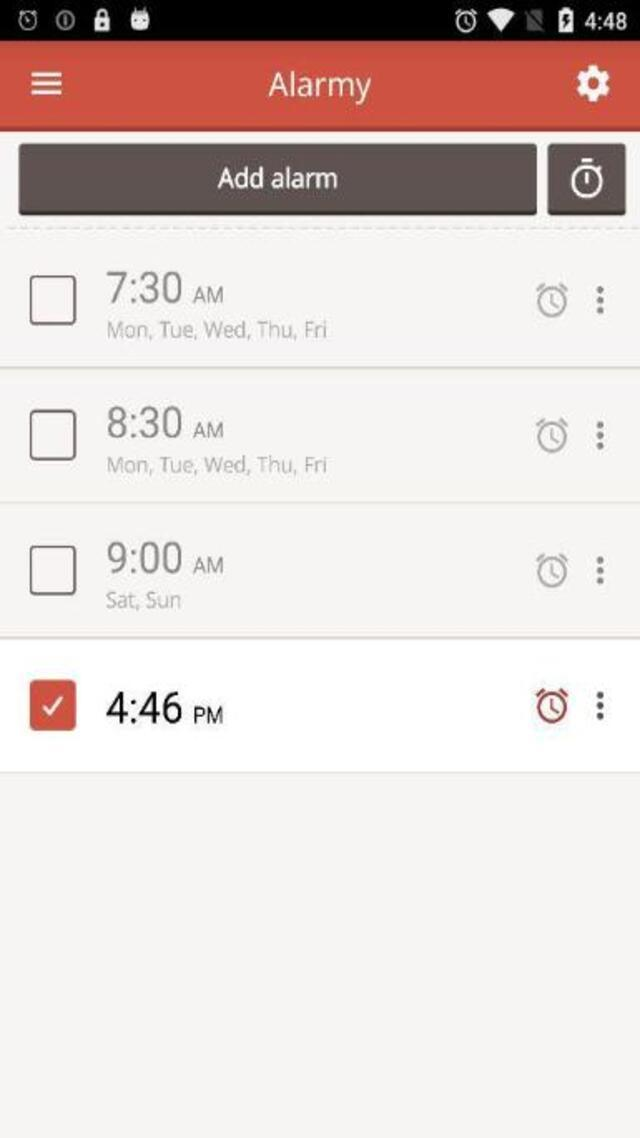CheckedTextView: (28, 678, 75, 730), (28, 408, 75, 460), (28, 544, 75, 594), (28, 274, 75, 324)
Icon: (548, 144, 626, 215), (576, 64, 611, 103), (534, 414, 566, 454), (534, 550, 566, 588), (534, 686, 566, 722), (536, 282, 568, 318), (31, 69, 62, 94), (596, 689, 604, 719), (596, 554, 604, 584), (596, 419, 604, 449), (596, 286, 604, 316)
Text: (109, 452, 328, 476), (109, 320, 328, 341), (266, 68, 372, 106), (106, 689, 182, 723), (106, 270, 182, 304), (107, 404, 182, 438), (108, 540, 181, 574), (105, 589, 181, 610), (192, 556, 224, 576), (192, 422, 224, 440), (192, 286, 224, 304), (194, 704, 222, 722)
TextButton: (18, 143, 537, 216)
